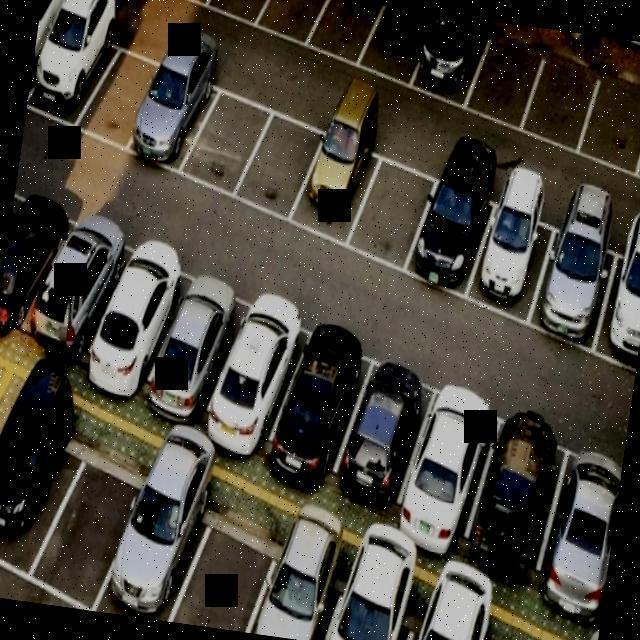space-empty: (28, 443, 145, 616), (168, 509, 282, 632), (338, 138, 435, 276), (178, 70, 274, 204), (234, 96, 328, 230), (79, 29, 164, 156), (463, 23, 549, 128), (520, 44, 604, 150), (574, 63, 640, 177), (356, 0, 440, 84), (304, 0, 387, 63), (252, 0, 335, 49), (206, 0, 284, 32)
space-occupied: (85, 468, 233, 632), (205, 281, 324, 483), (334, 342, 450, 536), (397, 374, 509, 572), (457, 401, 570, 597), (88, 222, 200, 417), (274, 316, 382, 507), (149, 256, 261, 438), (33, 197, 136, 376), (526, 443, 623, 633), (1, 390, 86, 576), (524, 206, 628, 352), (0, 179, 74, 365), (124, 46, 221, 184), (292, 110, 388, 248), (405, 160, 497, 298), (233, 535, 357, 637), (29, 1, 125, 130), (468, 186, 556, 317), (302, 564, 428, 640), (408, 7, 491, 112), (592, 227, 640, 376), (376, 600, 503, 640)
